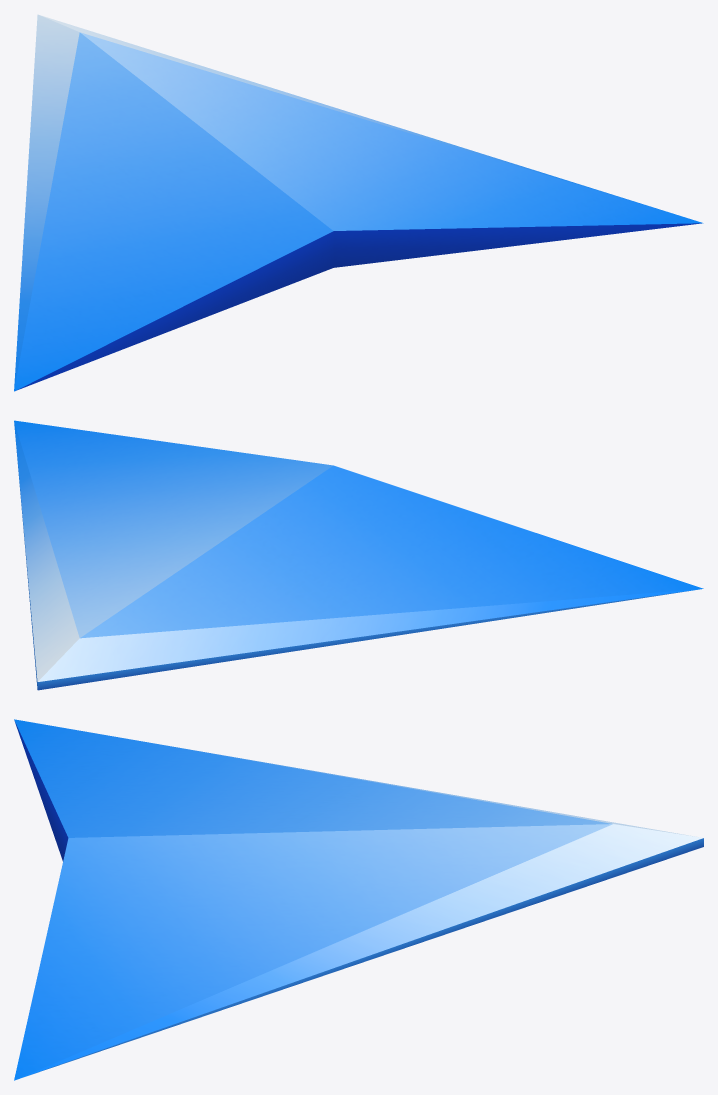
File: arrow.glb
3 views of the same model, one above another, from view 1: azimuth 30°, elevation 25°; view 2: azimuth 150°, elevation 25°; view 3: azimuth 270°, elevation 25° (orthographic). The views are drawn at different scales.
Parts seen in each view (by area): view 1: AR folded arrow; view 2: AR folded arrow; view 3: AR folded arrow.
Boxes of the visible parts, left/top/right/bottom form: AR folded arrow: left=14, top=14, right=703, bottom=391; AR folded arrow: left=14, top=420, right=703, bottom=690; AR folded arrow: left=14, top=719, right=703, bottom=1080.
Bounding box in the file's own units: 2 × 0.196 × 1.61.
1 material, 1 textured.
